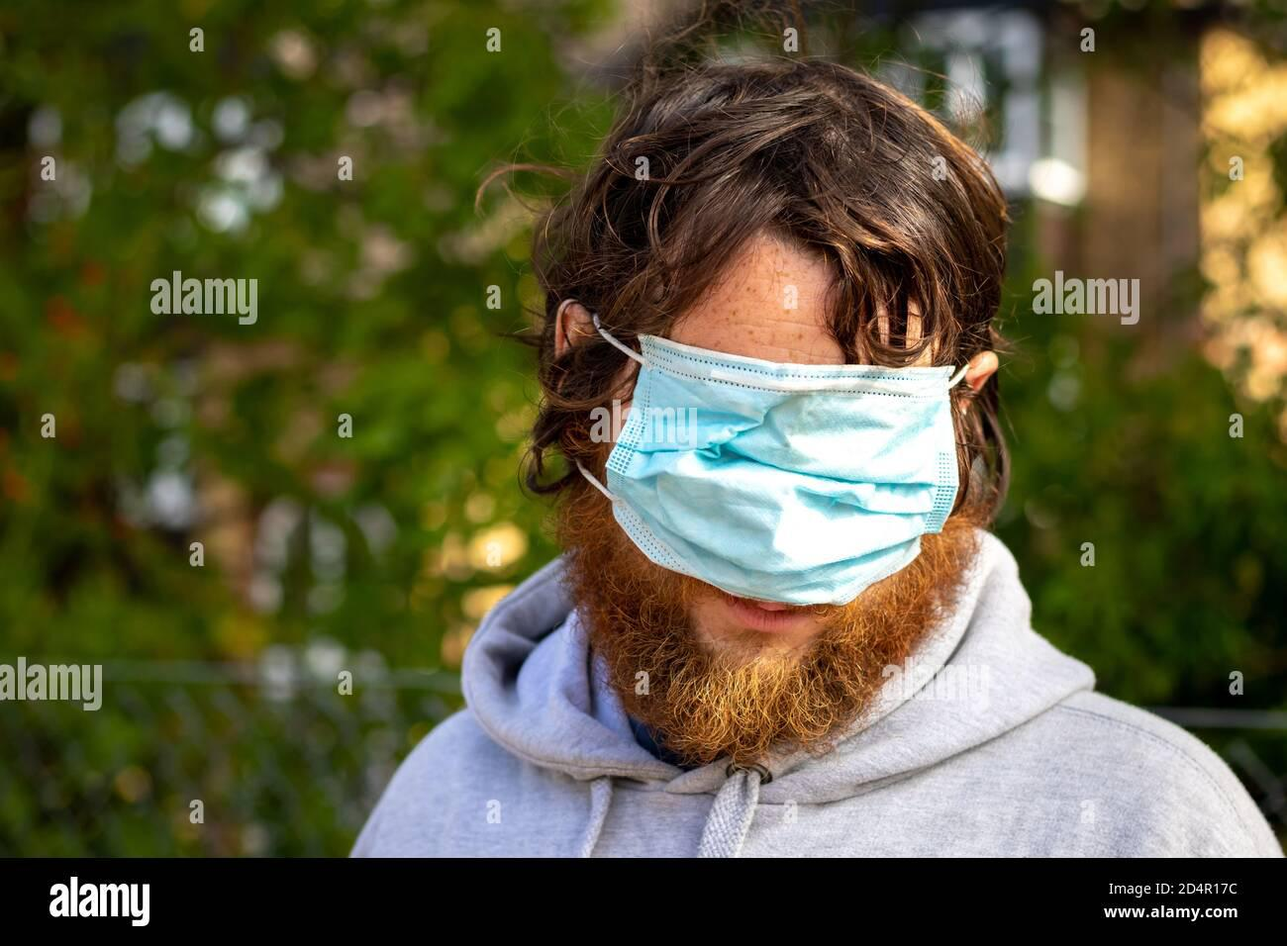WRONG: (610, 290, 956, 645)
